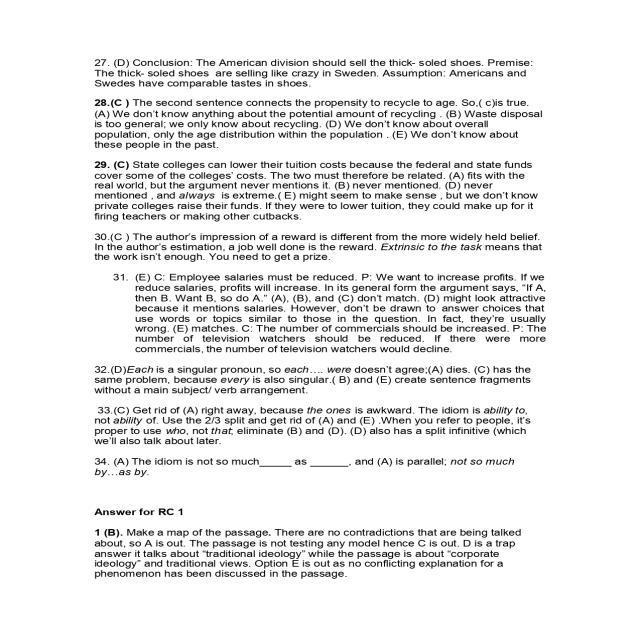Answer_Block: (67, 270, 581, 358), (67, 146, 581, 222), (67, 504, 581, 580), (67, 396, 581, 452), (67, 97, 583, 150), (67, 222, 581, 272), (67, 358, 581, 399), (63, 58, 580, 90)
Question_Block: (67, 451, 581, 484)
Question_Paper_Area: (63, 51, 584, 590)
